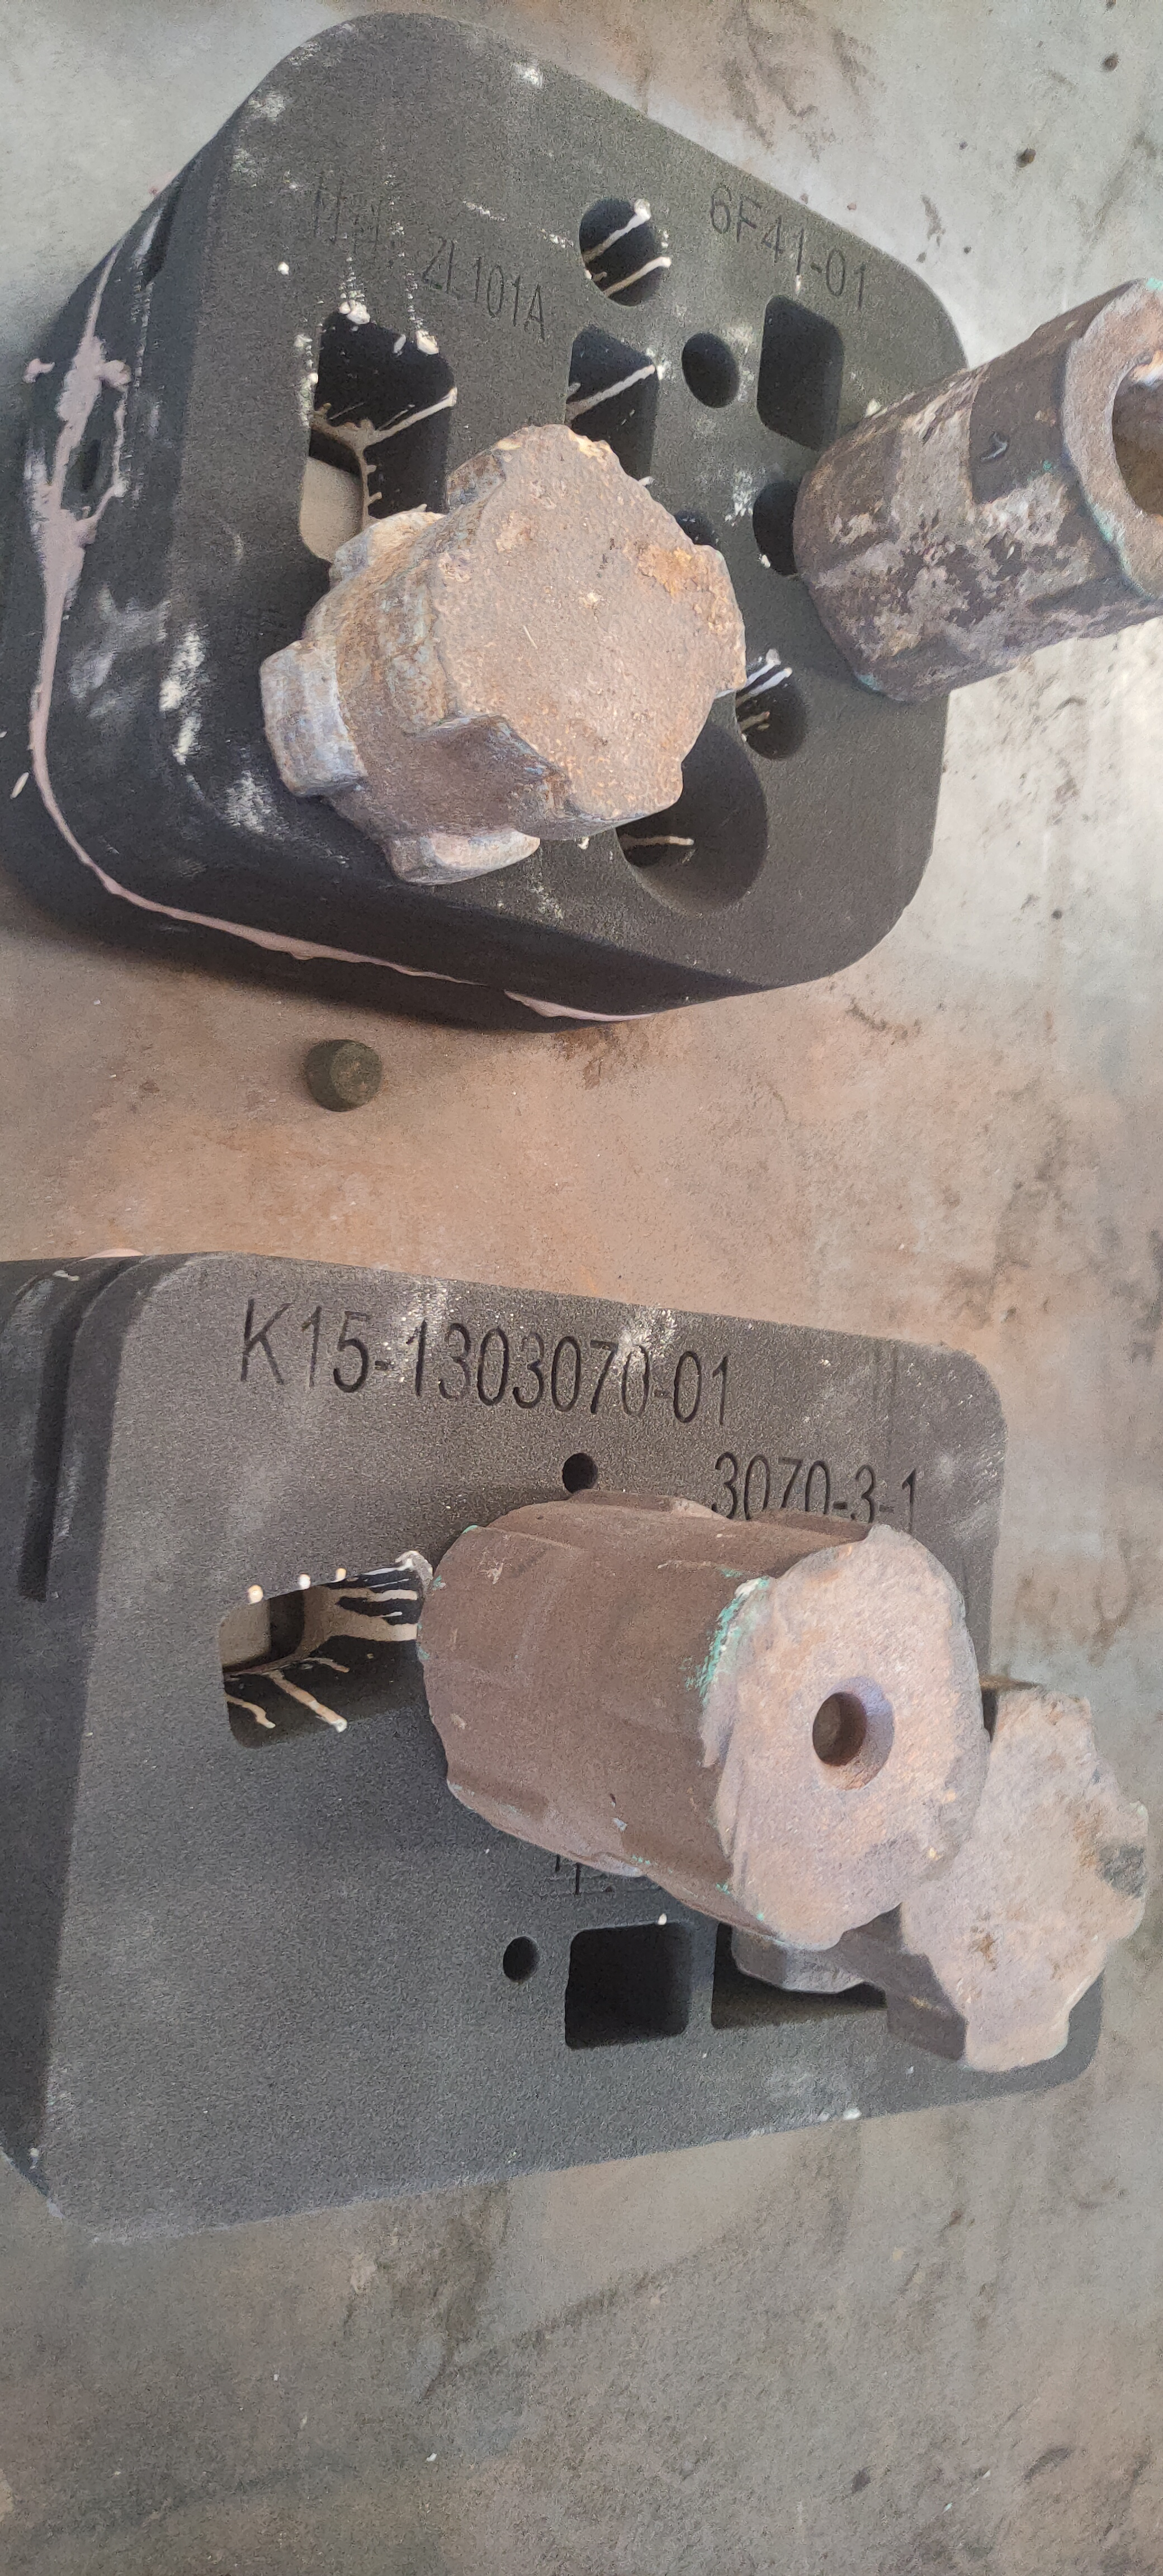pouring hole: (609, 713, 770, 920), (945, 1856, 1069, 2006)
